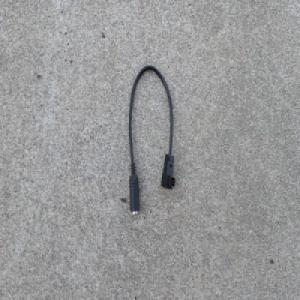Wire: (126, 62, 177, 215)
